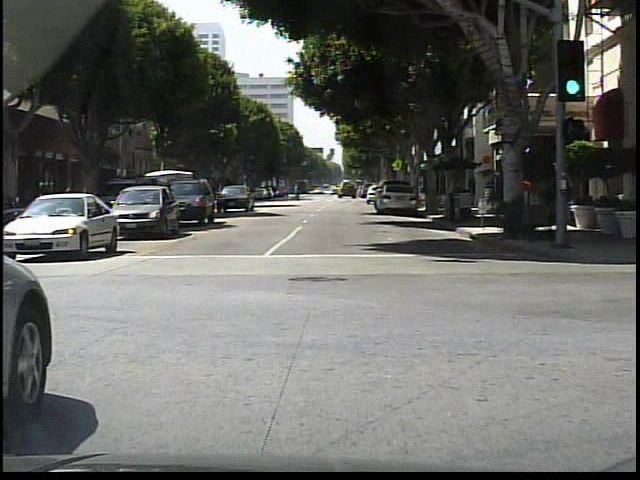person: (554, 160, 574, 241), (521, 170, 535, 226), (446, 172, 462, 220), (291, 183, 301, 201)
